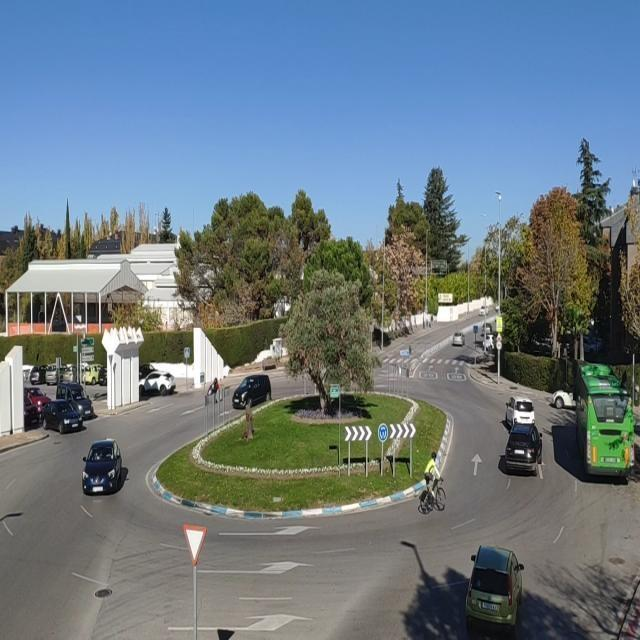Bus: (578, 362, 636, 474)
Car: (464, 544, 526, 632), (79, 438, 123, 493), (504, 426, 546, 473), (44, 398, 82, 434), (23, 387, 50, 418), (142, 371, 176, 393), (549, 390, 576, 410), (22, 396, 38, 428), (44, 365, 62, 385), (82, 364, 101, 382), (64, 366, 78, 384), (30, 368, 44, 385), (452, 332, 466, 345)
Cycle: (417, 479, 447, 514)
Van: (57, 384, 97, 418), (232, 374, 270, 409), (502, 398, 535, 428)
